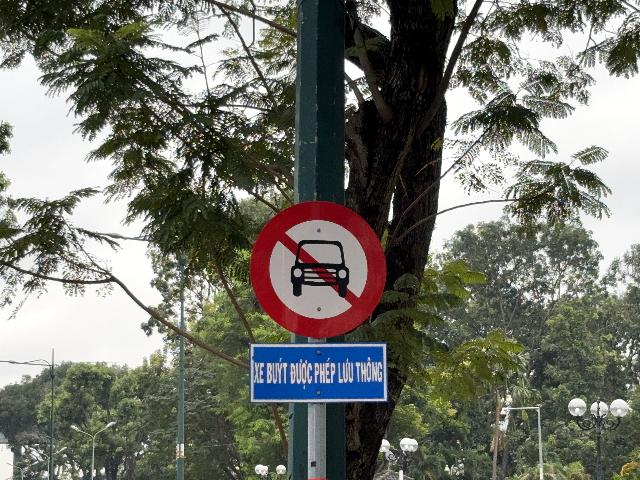cam-o-to: (250, 201, 388, 339)
